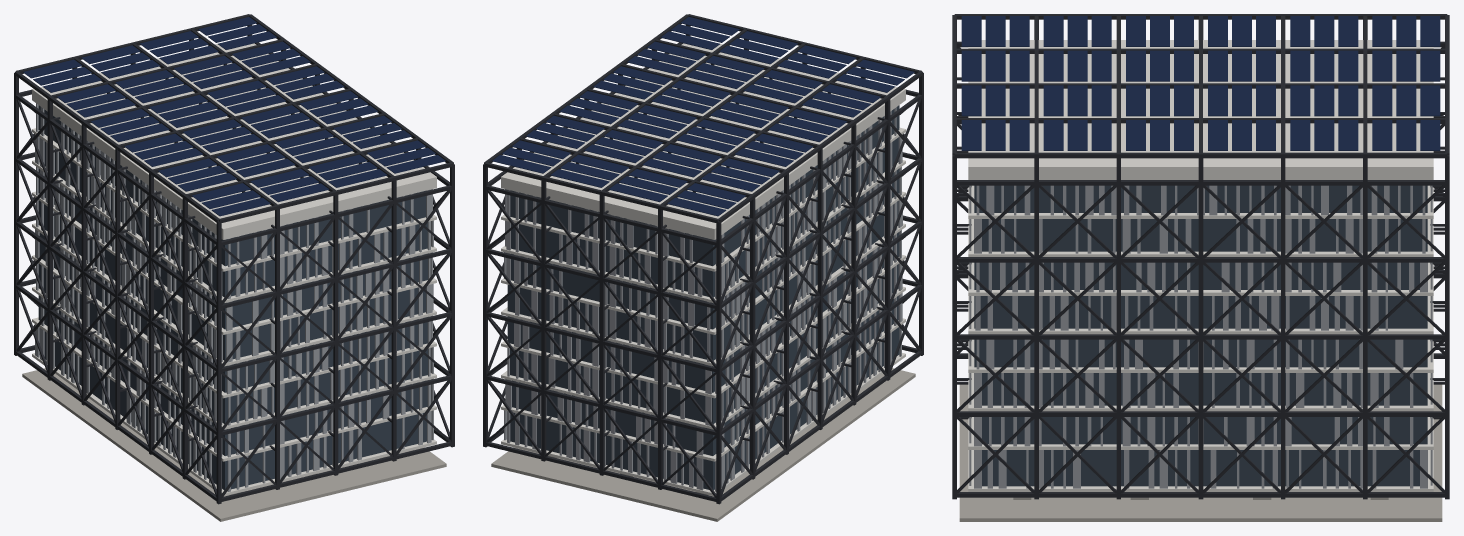
The model's file is bloque20.glb.
3 renders of one model, left to right at view 1: azimuth 30°, elevation 25°; view 2: azimuth 150°, elevation 25°; view 3: azimuth 270°, elevation 25°, orthographic. The views are drawn at different scales.
Visible parts, largest first — view 1: Exoesqueleto, Vidrio, Lamas, Paneles solares, Losas, Foso y pedestales; view 2: Exoesqueleto, Vidrio, Lamas, Paneles solares, Losas, Foso y pedestales; view 3: Vidrio, Exoesqueleto, Paneles solares, Losas, Lamas, Foso y pedestales.
Part boxes in pixels (left/top/right/bottom): Exoesqueleto: left=14, top=14, right=454, bottom=504; Vidrio: left=38, top=105, right=427, bottom=490; Lamas: left=35, top=103, right=433, bottom=491; Paneles solares: left=23, top=17, right=445, bottom=216; Losas: left=32, top=43, right=436, bottom=495; Foso y pedestales: left=22, top=368, right=446, bottom=521; Exoesqueleto: left=483, top=14, right=923, bottom=504; Vidrio: left=507, top=105, right=899, bottom=490; Lamas: left=504, top=105, right=902, bottom=491; Paneles solares: left=492, top=17, right=914, bottom=216; Losas: left=501, top=43, right=905, bottom=495; Foso y pedestales: left=491, top=368, right=915, bottom=521; Vidrio: left=974, top=185, right=1427, bottom=486; Exoesqueleto: left=952, top=14, right=1449, bottom=499; Paneles solares: left=961, top=16, right=1440, bottom=150; Losas: left=968, top=40, right=1433, bottom=491; Lamas: left=969, top=185, right=1432, bottom=488; Foso y pedestales: left=959, top=384, right=1442, bottom=521.
Bounding box in the file's own units: 32.85 × 40.52 × 49.15.
